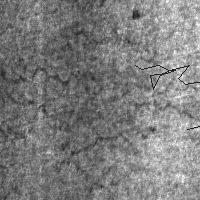crazing: (2, 64, 101, 127), (135, 65, 200, 141), (58, 133, 133, 191), (110, 79, 199, 123)
